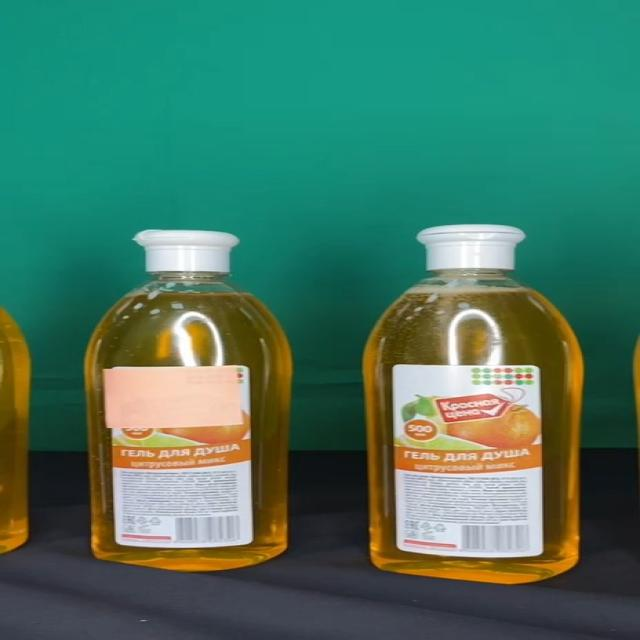Bottle: (361, 224, 584, 582), (83, 228, 293, 571)
Cap: (418, 225, 524, 269), (135, 229, 240, 273)
